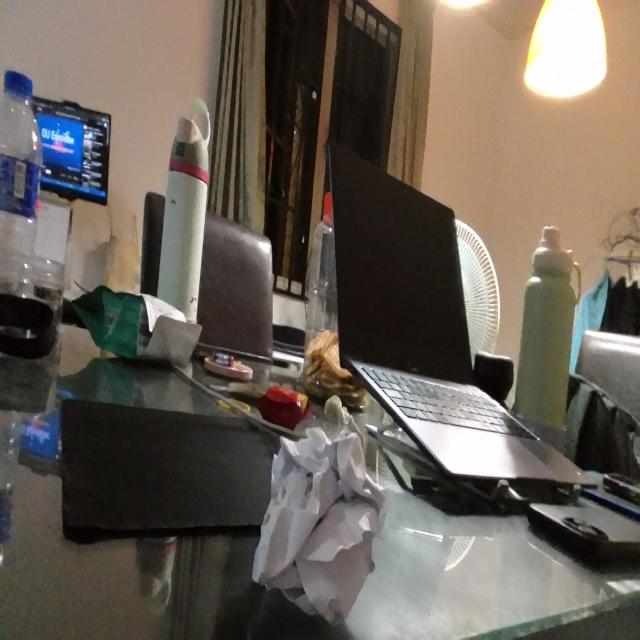crumpled_paper: (251, 424, 390, 629)
